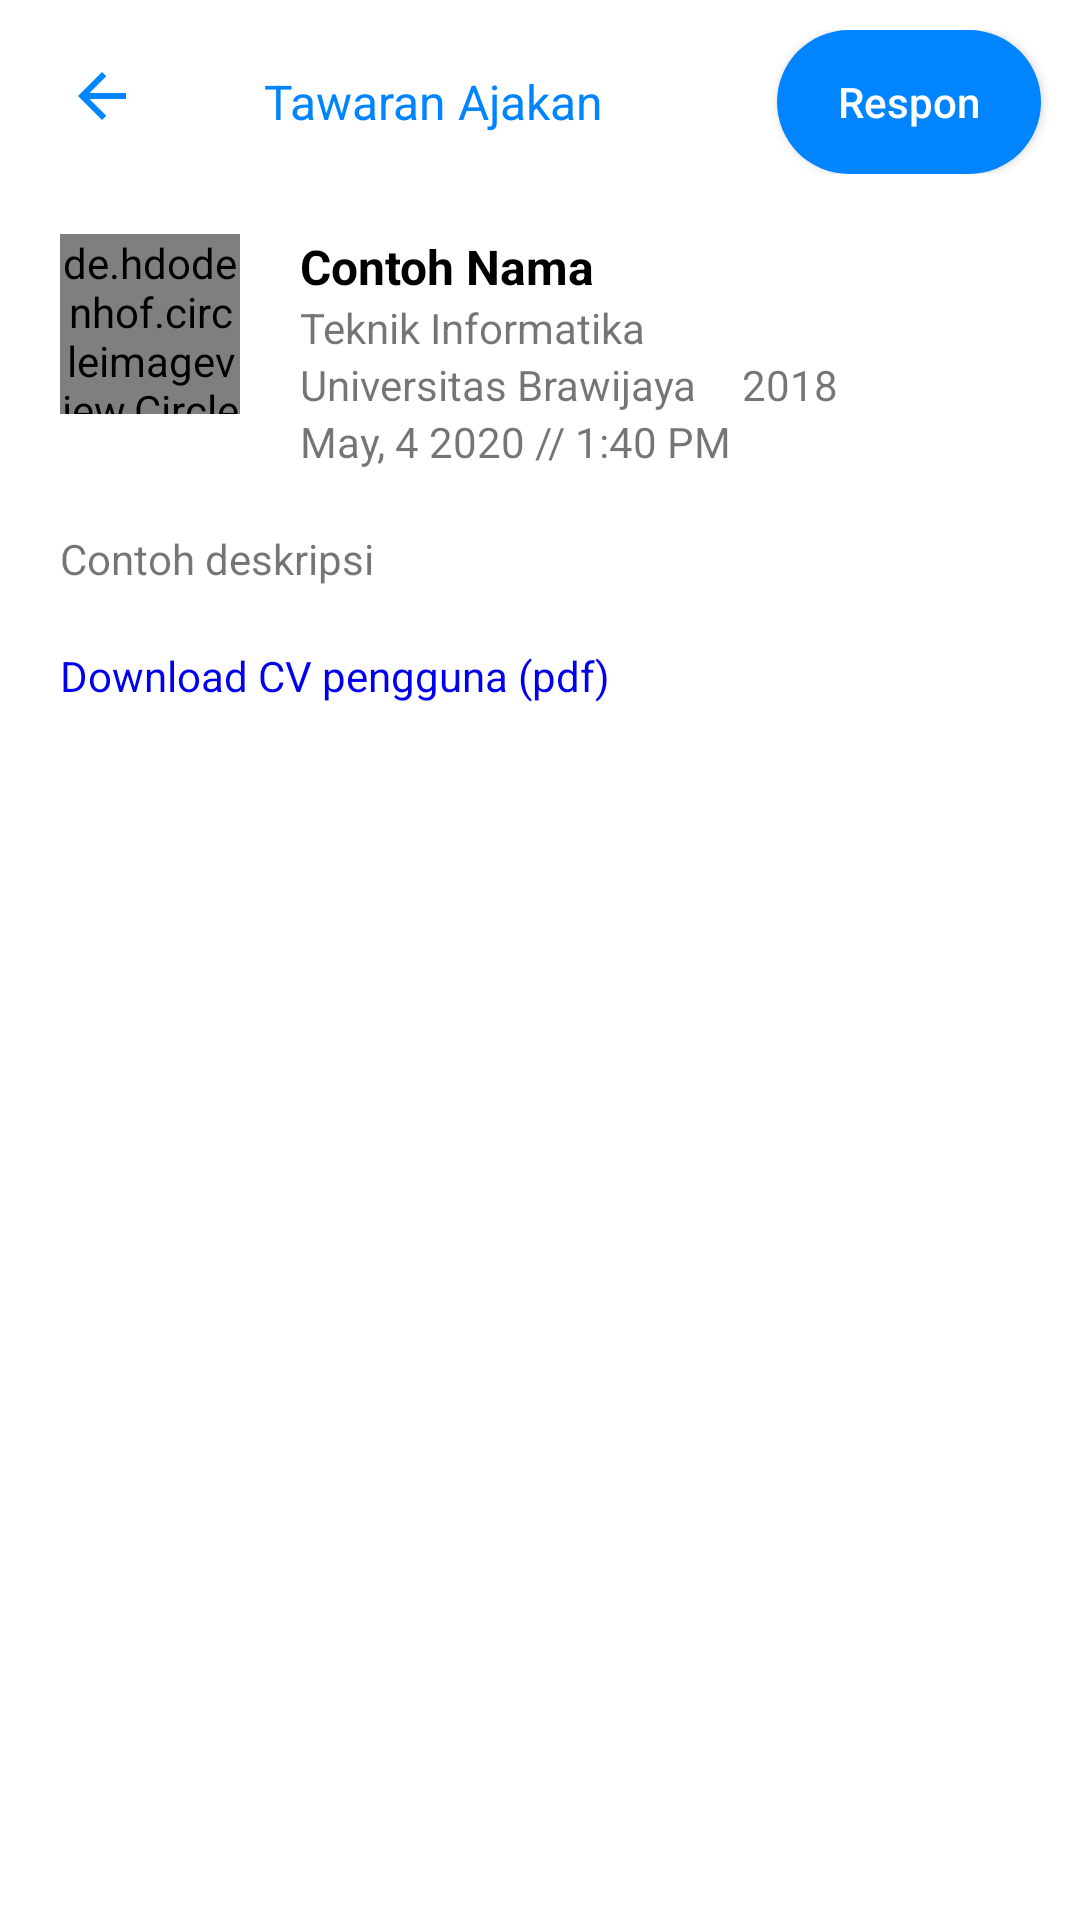

Where icons sit on this 1080w x 1920h app screen, as (x1, y1, x2, y2):
back: (78, 72, 126, 120)
